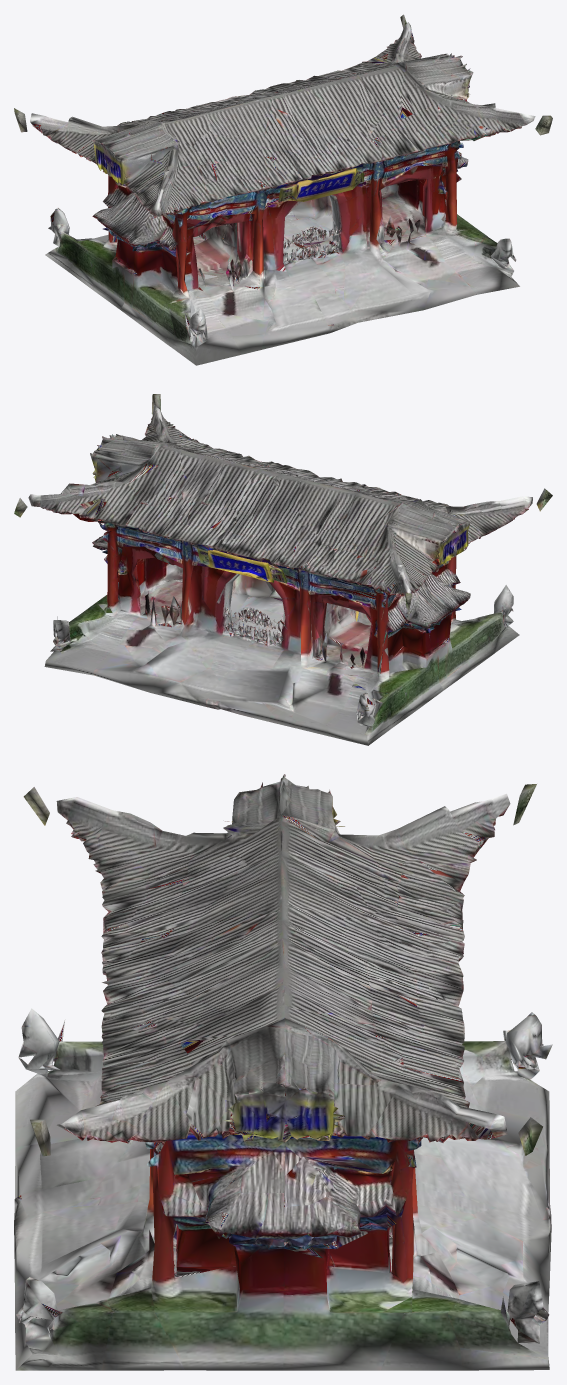
File: lib_paifang.mid.glb
The picture shows the model from 3 angles, top to bottom: view 1: azimuth 30°, elevation 25°; view 2: azimuth 150°, elevation 25°; view 3: azimuth 270°, elevation 25°; orthographic projection. The views are drawn at different scales.
Bounding box in the file's own units: 1.89 × 0.8073 × 1.25.
Materials: 1 (1 with a texture image).
